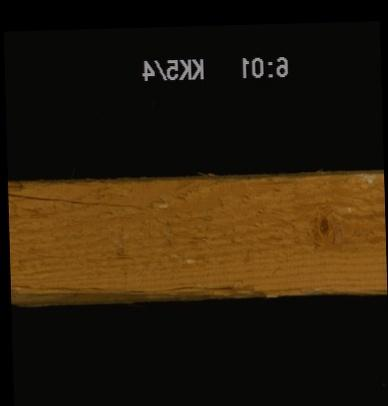small_knot: (310, 208, 333, 240)
split: (7, 188, 147, 214)
wave: (9, 277, 269, 300)
